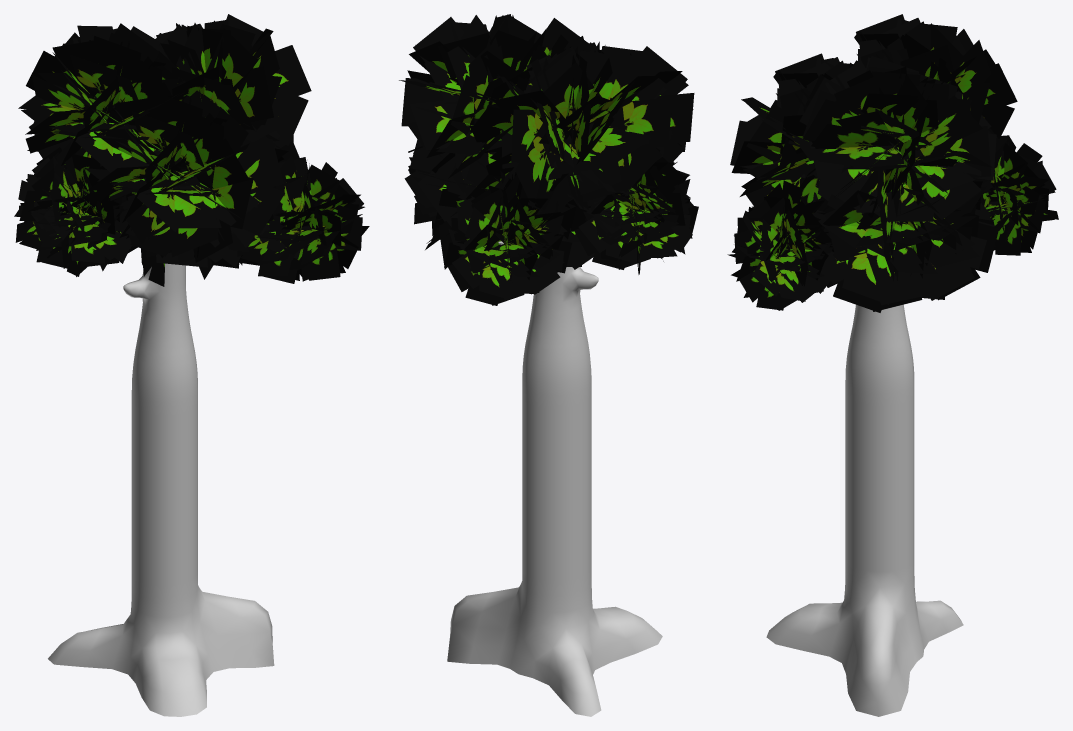
Rendered from AnotherTree.fbx.
The picture shows the model from 3 angles, left to right: view 1: azimuth 30°, elevation 25°; view 2: azimuth 150°, elevation 25°; view 3: azimuth 270°, elevation 25°; orthographic projection. The views are drawn at different scales.
Parts seen in each view (by area): view 1: Plane1664; view 2: Plane1664; view 3: Plane1664.
Part boxes in pixels (<box>): Plane1664: <box>14,14,369,716</box>; Plane1664: <box>399,14,698,716</box>; Plane1664: <box>727,14,1058,716</box>.
Size of the model in its own units: 10397 by 22700 by 10976.
2 materials, 1 textured.
